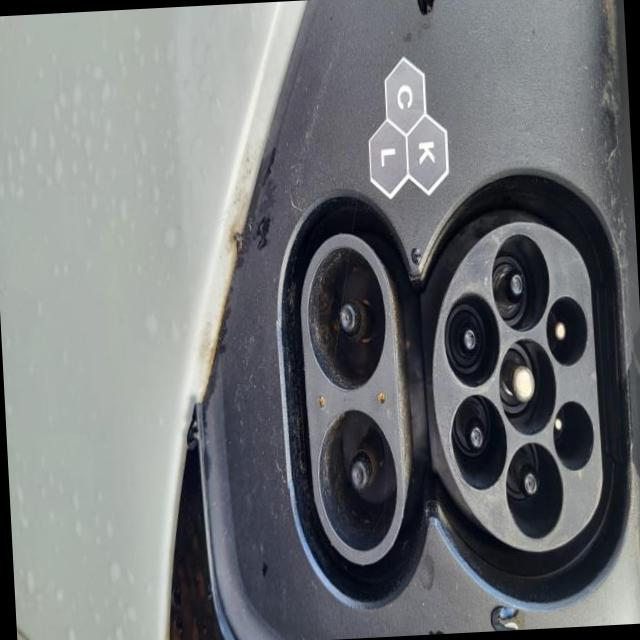inlet: (431, 223, 602, 551)
inlet-above-left: (546, 296, 587, 367)
inlet-above-right: (552, 401, 593, 470)
inlet-below-left: (444, 293, 499, 387)
inlet-below-right: (449, 395, 506, 491)
inlet-center: (498, 337, 555, 436)
inlet-center-left: (491, 234, 549, 332)
inlet-center-right: (504, 443, 562, 539)
